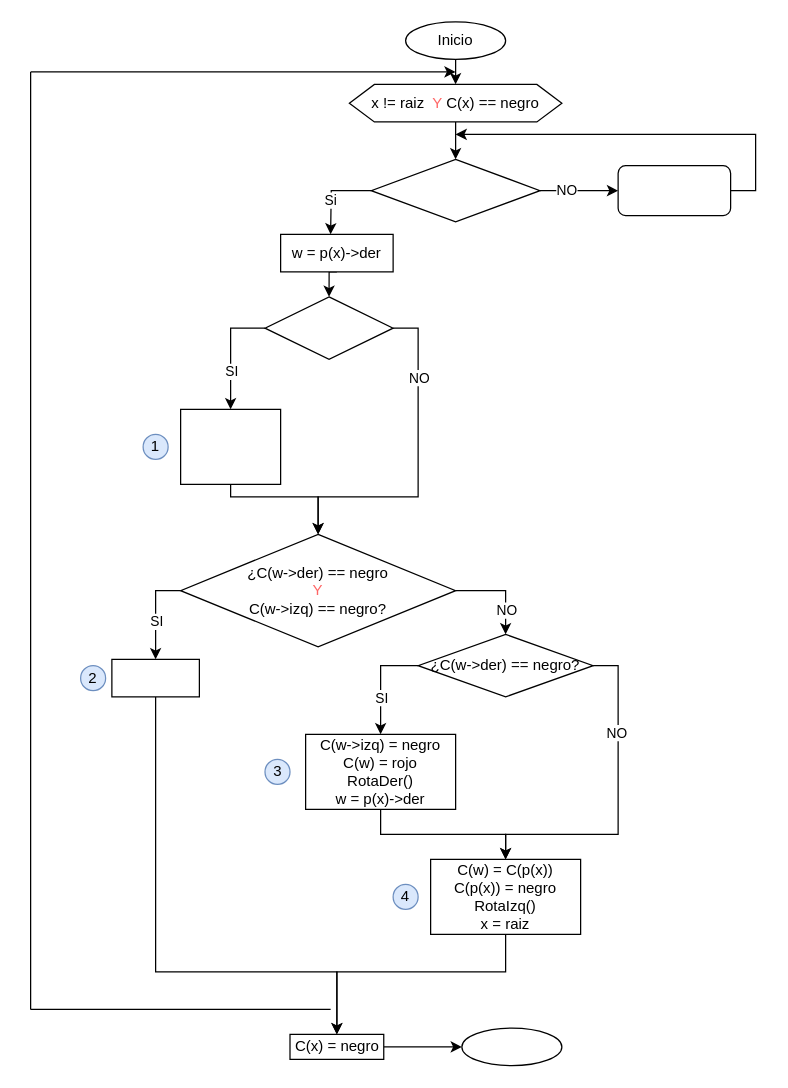
This 788x1088 diagram has some shape labels left out. The shapes that lost their labels are listed below. From the top down, each one's box as (x1, y1, x2, y2) in pixels, then its label:
(370, 158, 540, 222): ¿x == p(x)->izq?
(617, 164, 731, 216): Lo mismo caso contrario
(264, 296, 393, 359): ¿C(w) == rojo?
(179, 408, 281, 484): C(w) = negro C(p(x)) = rojo RotaIzq() w = p(x)->der
(111, 658, 199, 697): C(w) = rojo x = p(x)
(461, 1027, 562, 1066): Fin
